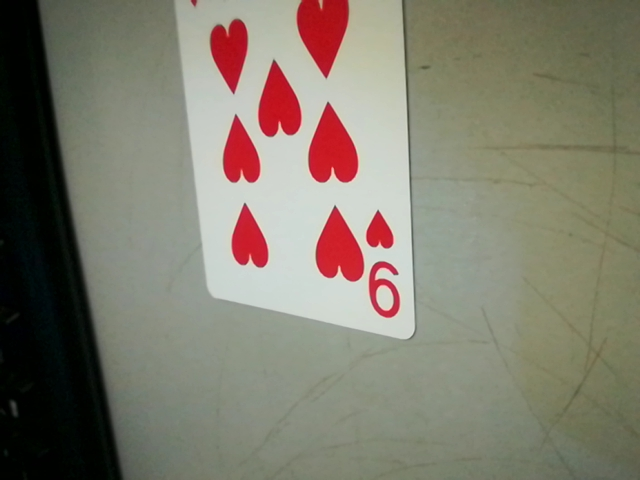hx 9: (362, 205, 413, 330)
